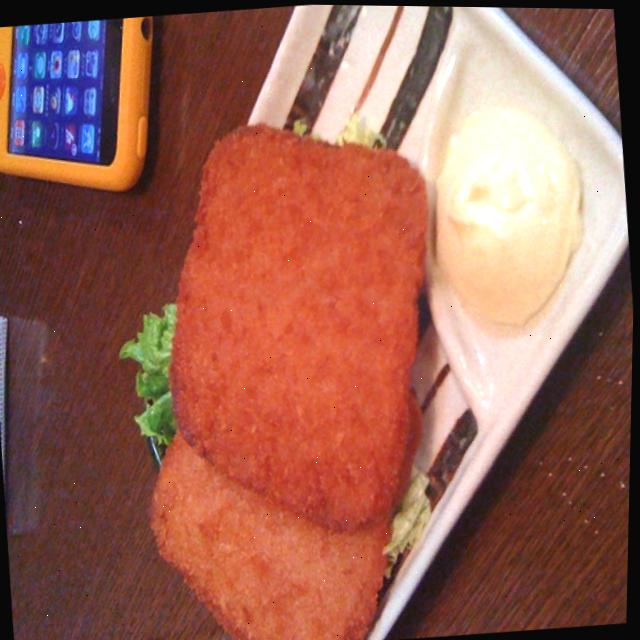炸货点心: (48, 1, 640, 640)
